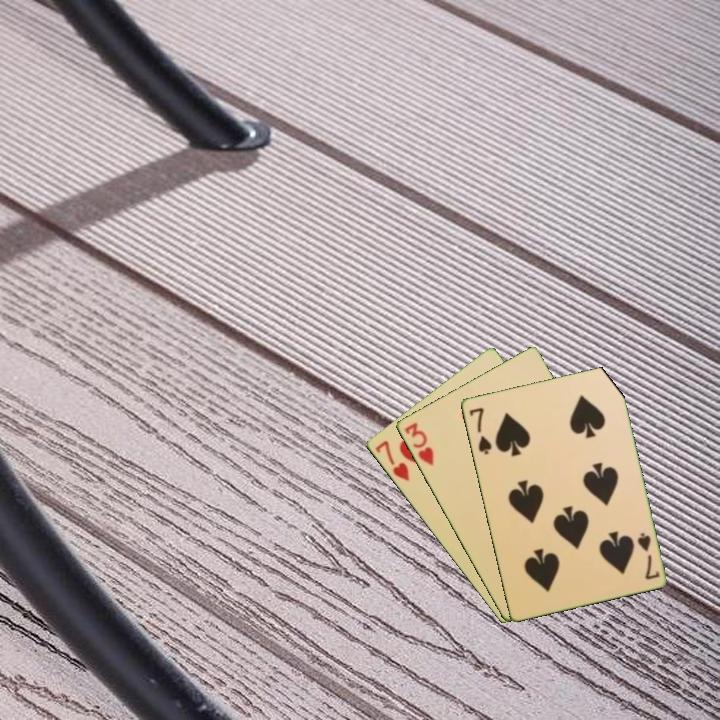3h: (401, 419, 436, 468)
7h: (371, 437, 412, 485)
7s: (465, 404, 494, 457), (633, 529, 662, 582)
